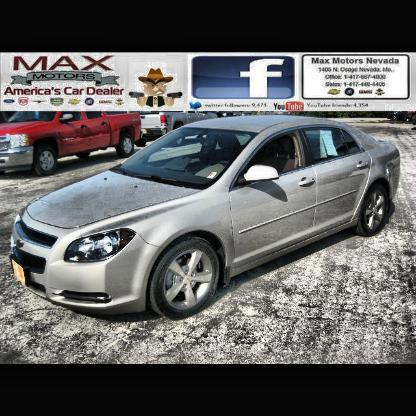Chevrolet Malibu Hybrid Sedan 2010: (14, 115, 401, 323)
